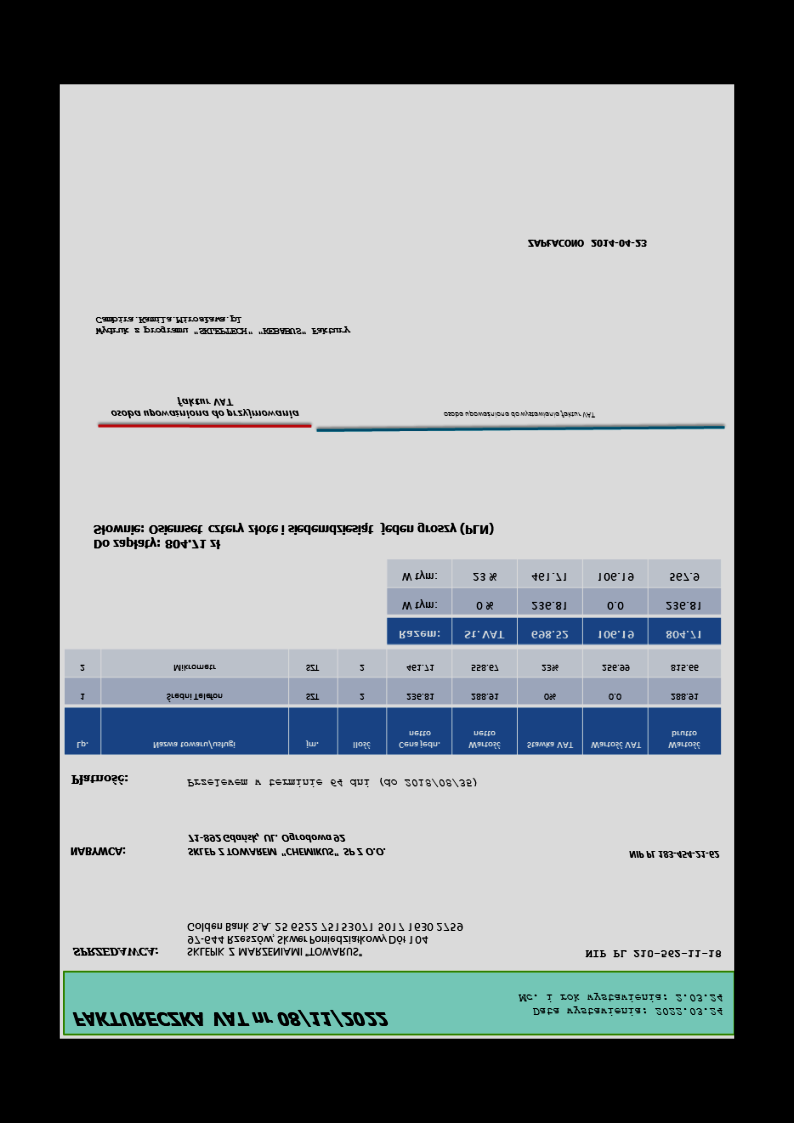Table: (63, 649, 722, 758), (385, 556, 723, 646)
TextBox: (90, 519, 496, 551), (184, 918, 465, 959), (69, 1008, 389, 1031), (93, 312, 351, 339), (516, 990, 725, 1019), (185, 831, 385, 859), (108, 394, 301, 421), (184, 777, 478, 790), (582, 947, 723, 961), (440, 408, 598, 420), (525, 237, 649, 250), (70, 945, 159, 960), (626, 848, 720, 861), (70, 773, 128, 788), (67, 845, 127, 859)
